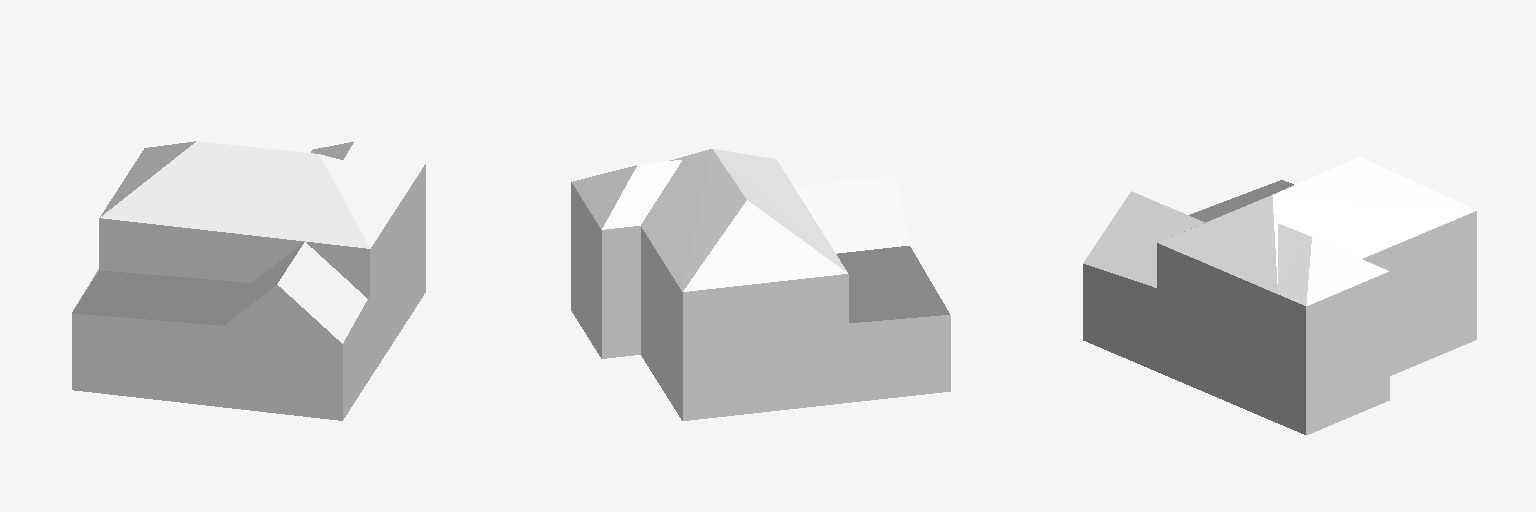
Rendered from house_Shape 257.obj.
The picture shows the model from 3 angles: view 1: azimuth 30°, elevation 25°; view 2: azimuth 150°, elevation 25°; view 3: azimuth 270°, elevation 25°; orthographic projection.
Visible parts, largest first — view 1: CityEngineMaterial_102, CityEngineMaterial_8, CityEngineMaterial_101, CityEngineMaterial_100, CityEngineMaterial_160; view 2: CityEngineMaterial_8, CityEngineMaterial_102, CityEngineMaterial_160, CityEngineMaterial_100, CityEngineMaterial_101; view 3: CityEngineMaterial_102, CityEngineMaterial_8, CityEngineMaterial_160, CityEngineMaterial_100.
Boxes of the visible parts, x1,y1,x2,y2 form: CityEngineMaterial_102: [72, 209, 425, 420]; CityEngineMaterial_8: [100, 141, 425, 343]; CityEngineMaterial_101: [99, 218, 304, 282]; CityEngineMaterial_100: [72, 270, 325, 328]; CityEngineMaterial_160: [227, 164, 425, 335]; CityEngineMaterial_8: [572, 149, 909, 291]; CityEngineMaterial_102: [571, 228, 950, 420]; CityEngineMaterial_160: [571, 182, 848, 337]; CityEngineMaterial_100: [836, 246, 949, 322]; CityEngineMaterial_101: [602, 271, 640, 358]; CityEngineMaterial_102: [1083, 182, 1476, 435]; CityEngineMaterial_8: [1083, 157, 1476, 305]; CityEngineMaterial_160: [1157, 211, 1476, 351]; CityEngineMaterial_100: [1189, 180, 1292, 222].
Size of the model in its own units: 20.67 by 9.7 by 19.21.